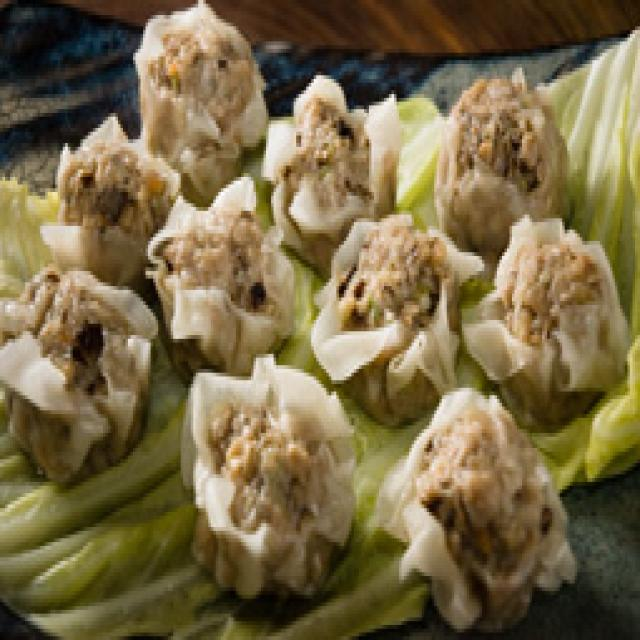带馅早点: (0, 143, 640, 437)
